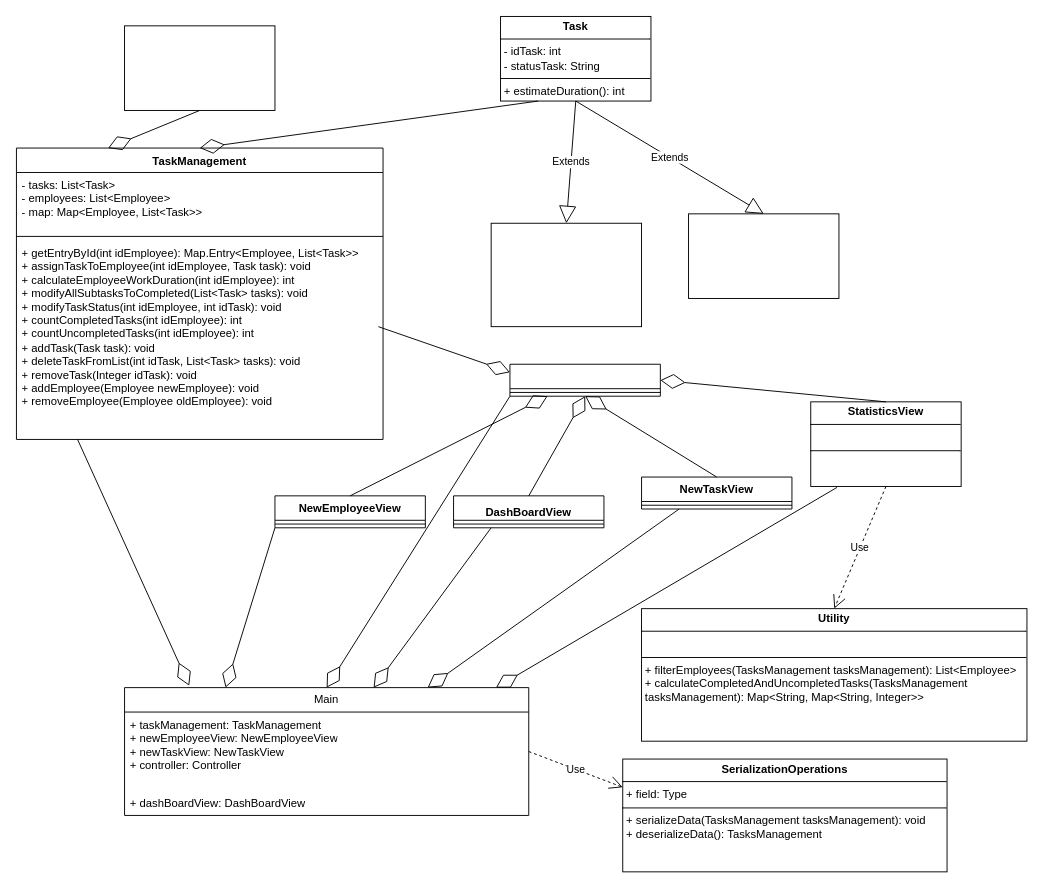
Image size: 1043x888. Some labels were removed from this diagram. Here are the shapes that lost their labels. From the top down, the centre of each, then its label:
point 199,67: Employee - name: String - idEmployee: int +
point 566,274: SimpleTask - startHour: int - endHour: int + estimateDuration(): int
point 763,255: ComplexTask - tasks: List<Task> + estimateDuration(): int
point 584,379: Controller
